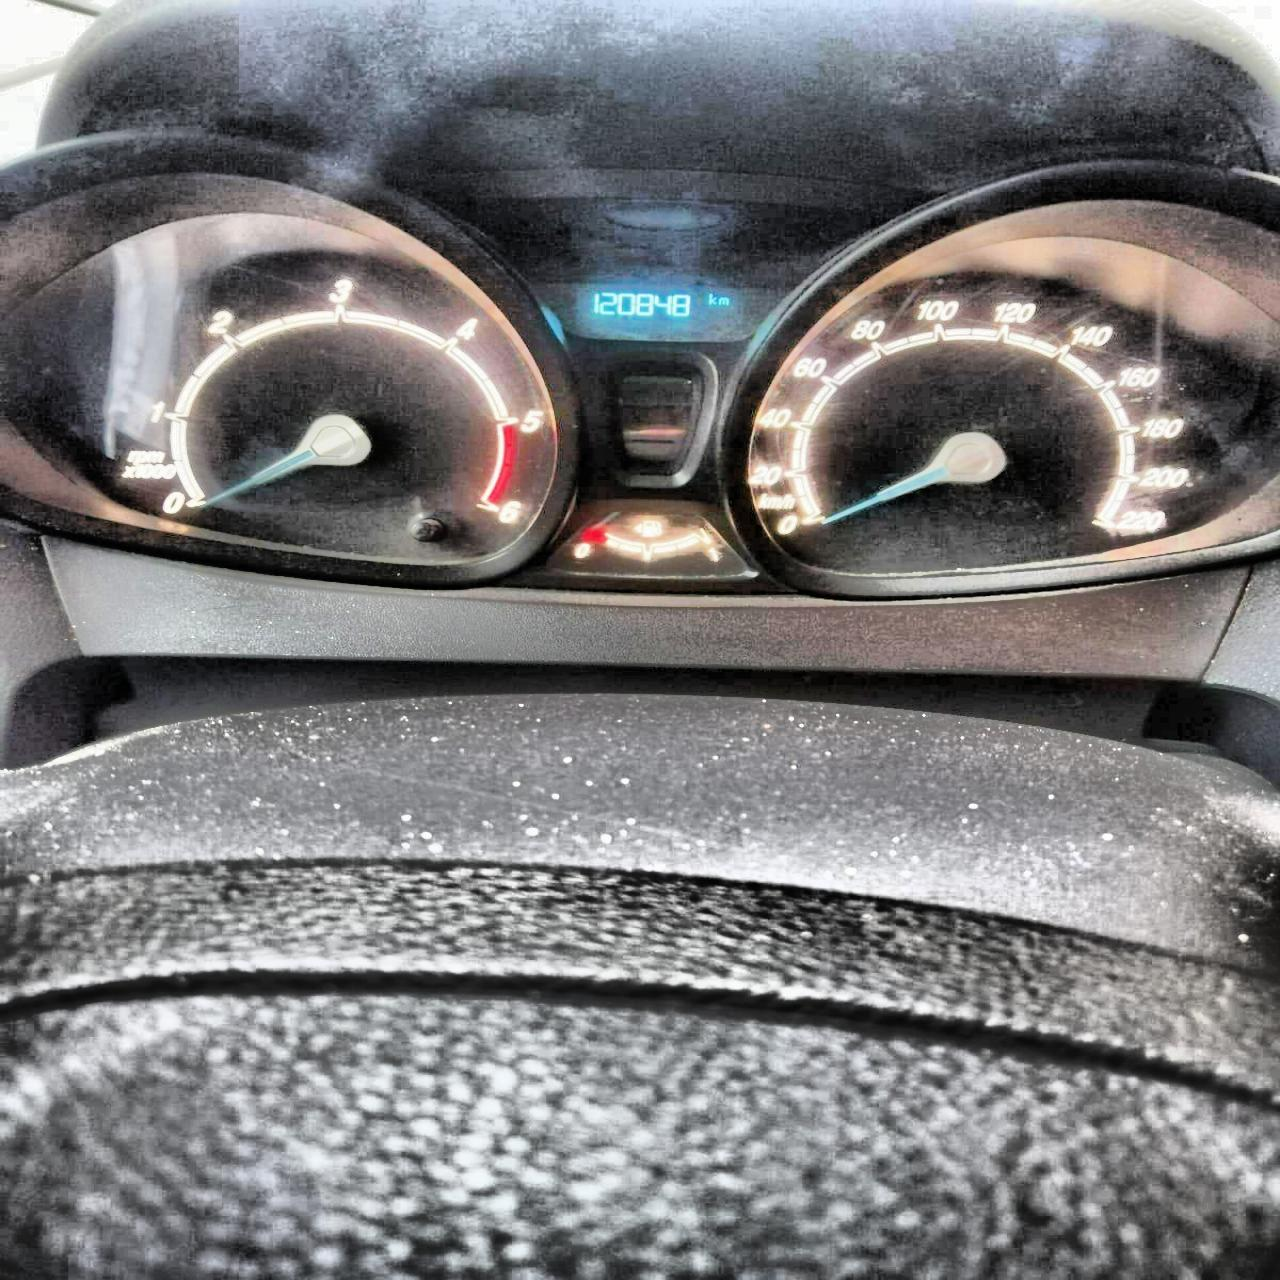0: (618, 292, 634, 316)
1: (590, 291, 598, 314)
2: (599, 290, 615, 314)
4: (654, 293, 672, 315)
8: (672, 293, 690, 316), (636, 292, 653, 315)
X: (717, 294, 729, 306), (707, 292, 716, 305)
odometer: (563, 275, 743, 336)
